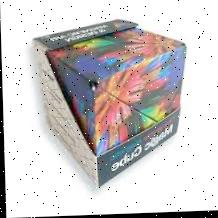cube: (32, 18, 188, 191)
